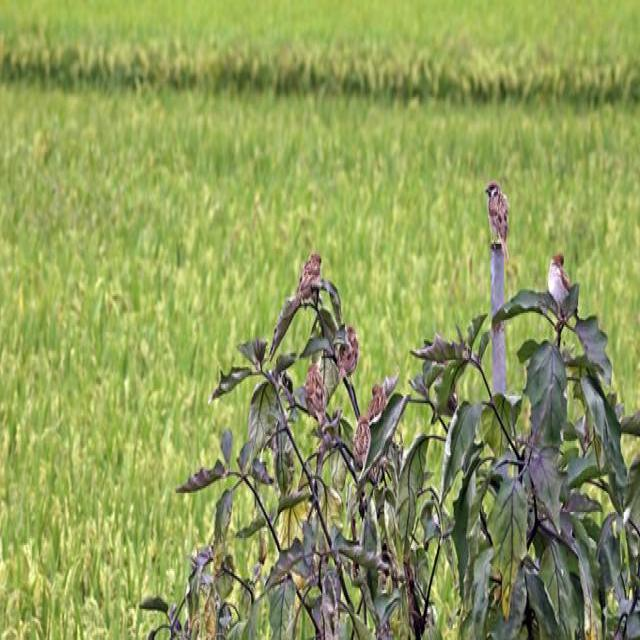bird: (540, 250, 585, 330), (483, 180, 512, 246), (290, 253, 320, 316), (302, 367, 330, 432), (334, 320, 357, 382), (350, 414, 370, 470), (368, 381, 390, 427)
